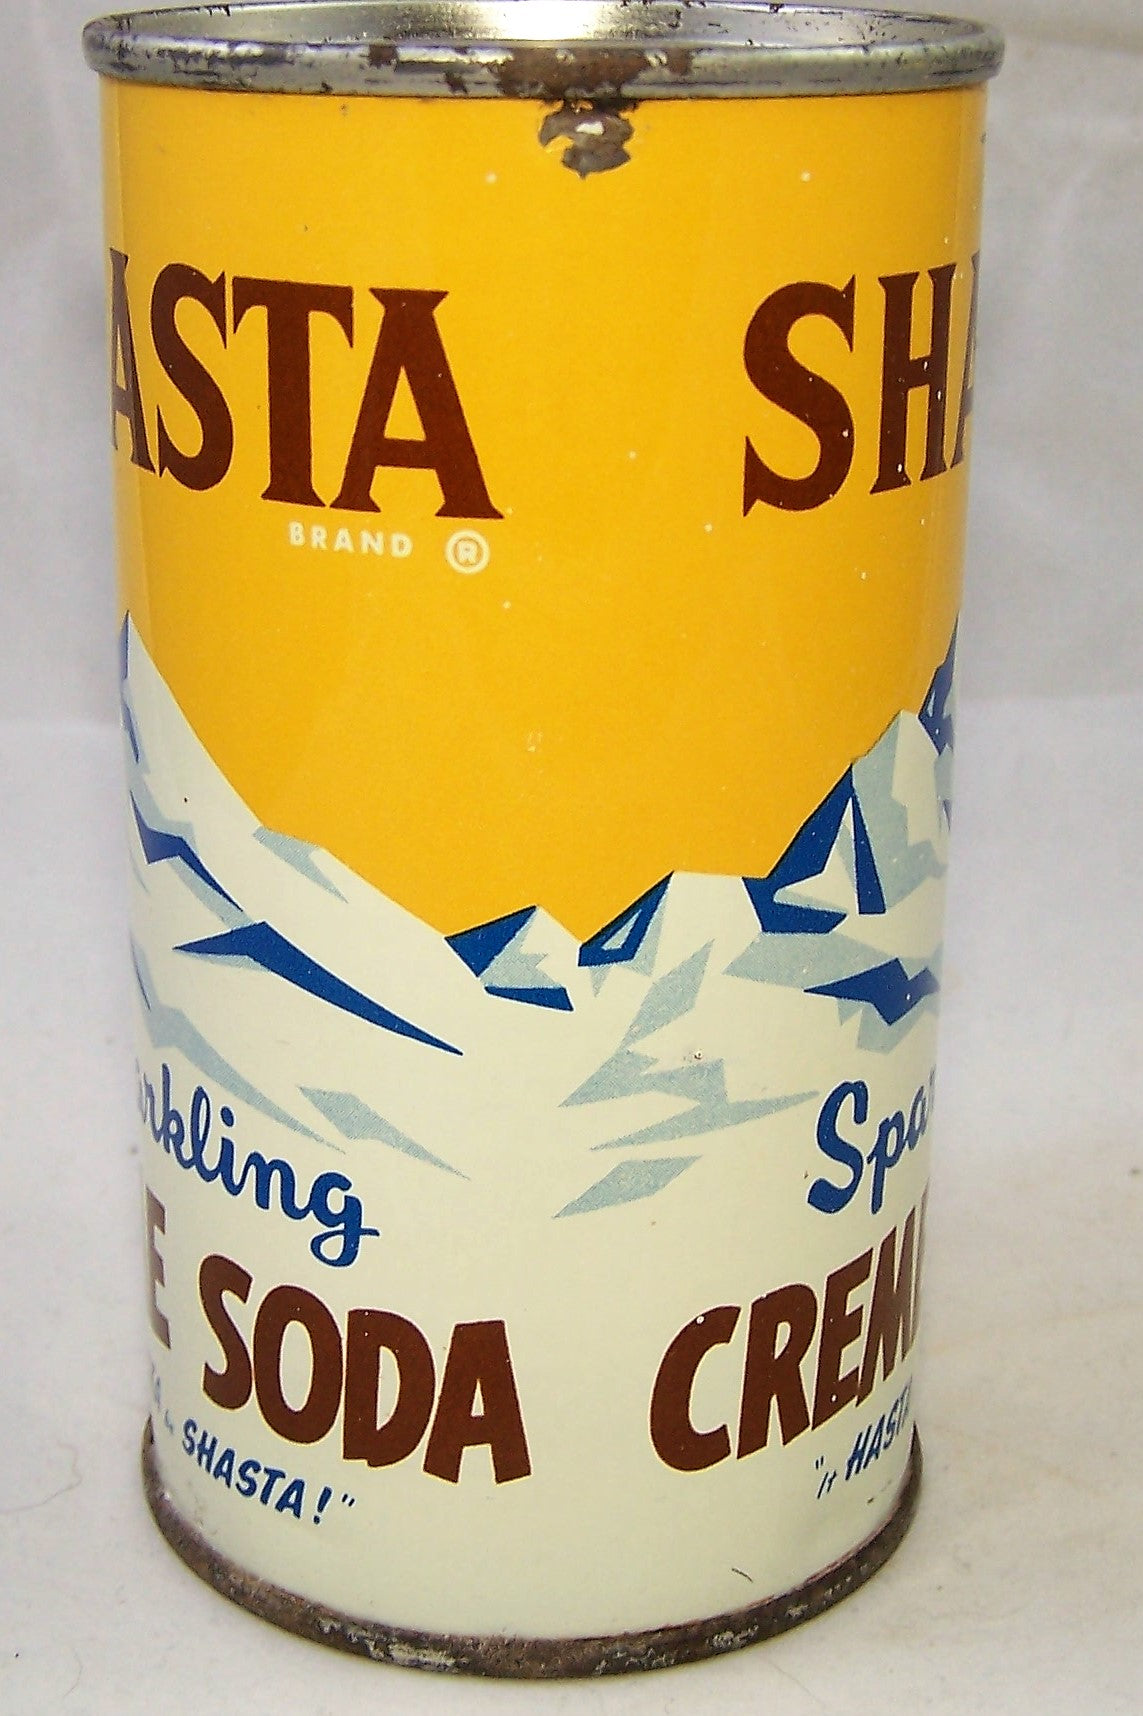Can: (37, 20, 1008, 1682)
